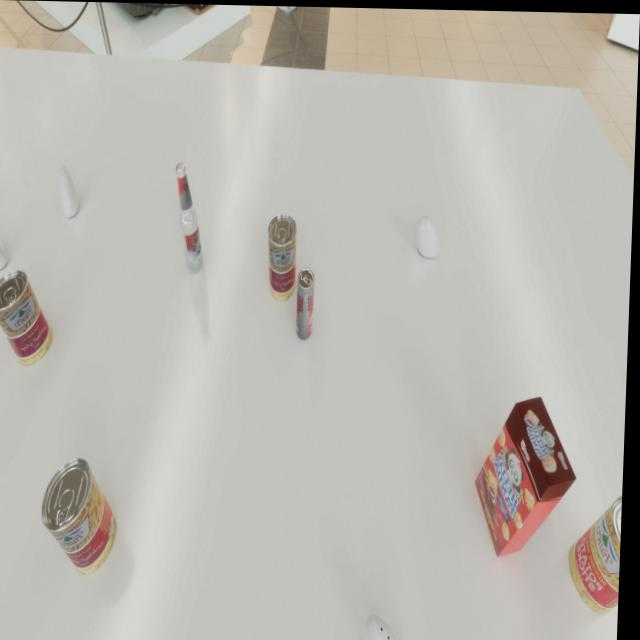Bottle: (174, 162, 208, 272)
HelloPanda: (477, 393, 582, 556)
Potato_sticks: (44, 457, 122, 574), (0, 269, 57, 366), (267, 212, 300, 300)
Rita_zero_sugar: (298, 267, 317, 339)
Salt: (59, 166, 82, 218), (417, 214, 442, 256), (0, 222, 12, 271)
